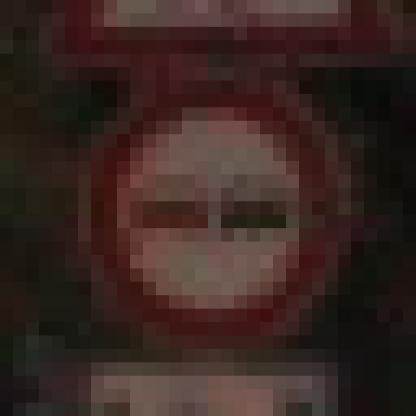No Overtaking: (66, 68, 352, 350)
